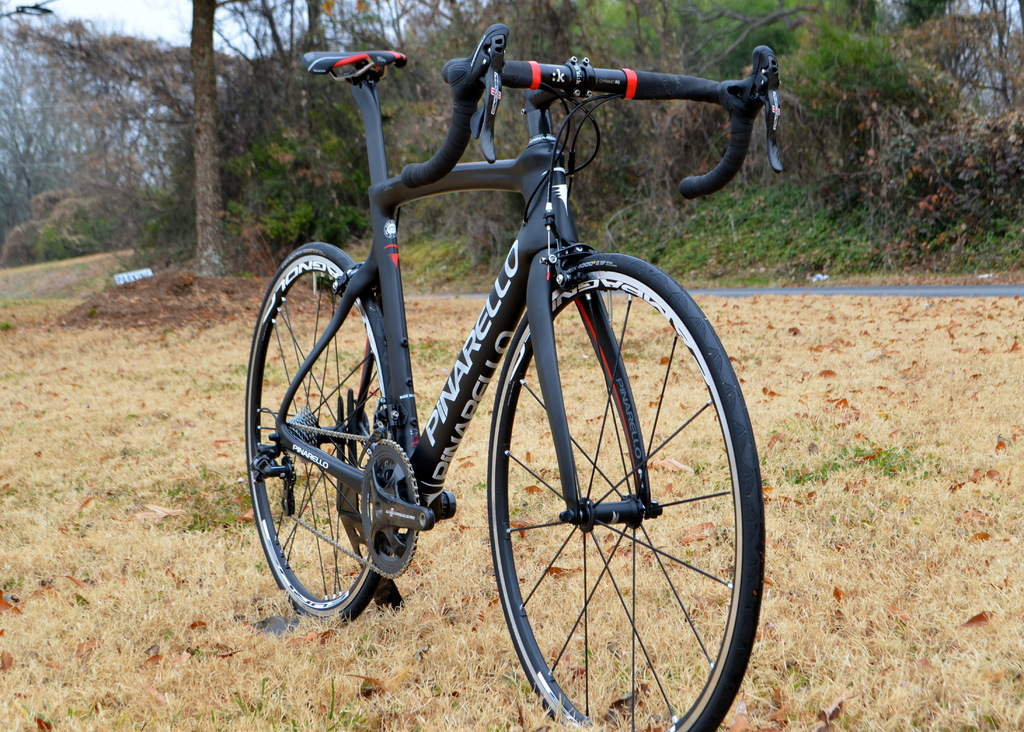Bike: (244, 38, 791, 726)
